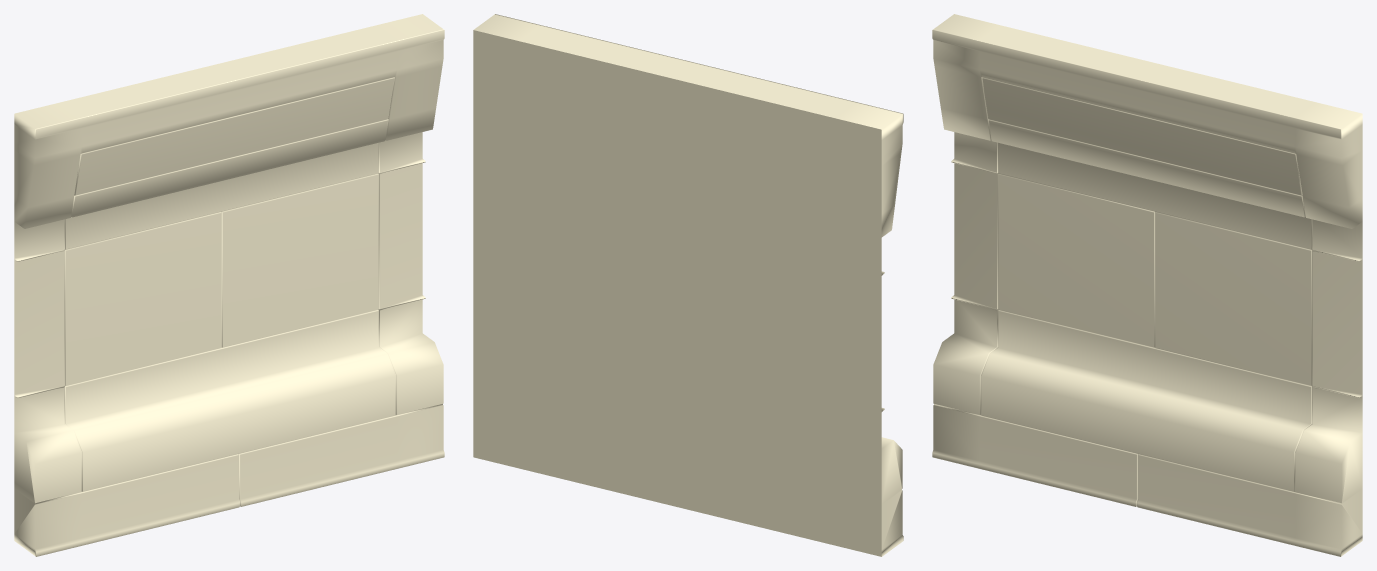
File: 05ba5c66-c75a-49c4-aebe-fdf3cb3671ab.glb
3 views of the same model, side by side, from view 1: azimuth 30°, elevation 25°; view 2: azimuth 150°, elevation 25°; view 3: azimuth 330°, elevation 25° (orthographic).
Visible parts, largest first — view 1: ArtDecoExteriorWall.002; view 2: ArtDecoExteriorWall.002; view 3: ArtDecoExteriorWall.002.
Boxes of the visible parts, bbox=[...] form: ArtDecoExteriorWall.002: bbox=[14, 14, 444, 556]; ArtDecoExteriorWall.002: bbox=[473, 14, 903, 556]; ArtDecoExteriorWall.002: bbox=[932, 14, 1362, 556].
Size of what is drawn, in the model's own units: 3.01 by 3.01 by 0.2796.
Materials: 1 (1 with a texture image).
